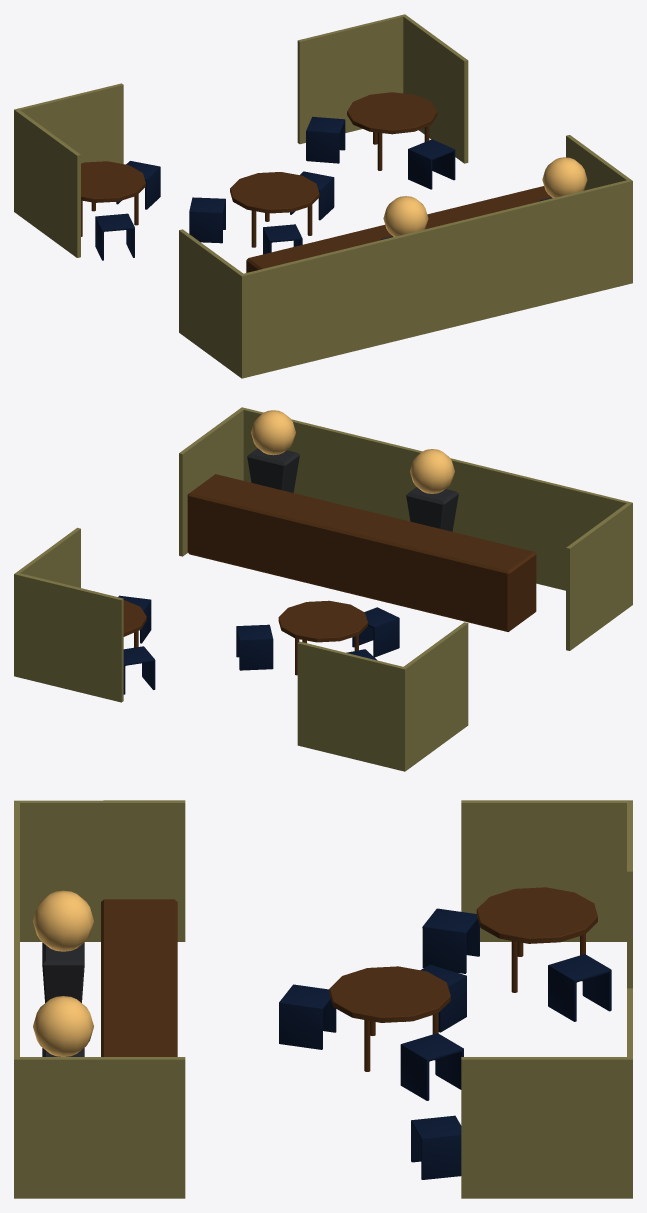
File: Cafeteria.FBX
3 renders of one model, top to bottom at view 1: azimuth 30°, elevation 25°; view 2: azimuth 150°, elevation 25°; view 3: azimuth 270°, elevation 25°, orthographic. The views are drawn at different scales.
Parts seen in each view (by area): view 1: Cafeteria Walls, Cafeteria Walls001, Counter, Table003, Table002, Table001, Stool004, Stool003, Stool007, Human001, Human002, Stool002 (+3 smaller); view 2: Cafeteria Walls001, Cafeteria Walls, Counter, Human001, Human002, Table003, Stool006, Stool005, Stool003, Table002; view 3: Cafeteria Walls, Cafeteria Walls001, Counter, Table003, Table001, Human002, Stool002, Stool005, Stool001, Human001, Stool006, Stool004 (+1 smaller).
Boxes of the visible parts, box(x1,y1,x2,y2) form: Cafeteria Walls: box(179, 135, 632, 378); Cafeteria Walls001: box(14, 14, 468, 257); Counter: box(246, 186, 551, 272); Table003: box(230, 172, 319, 247); Table002: box(347, 92, 437, 170); Table001: box(81, 161, 145, 236); Stool004: box(408, 139, 455, 189); Stool003: box(306, 116, 345, 163); Stool007: box(189, 197, 225, 243); Human001: box(539, 157, 587, 201); Human002: box(380, 196, 428, 240); Stool002: box(95, 213, 134, 260); Cafeteria Walls001: box(14, 527, 468, 771); Cafeteria Walls: box(179, 407, 632, 650); Counter: box(187, 474, 536, 631); Human001: box(247, 410, 299, 492); Human002: box(406, 449, 458, 531); Table003: box(278, 600, 367, 675); Stool006: box(236, 624, 273, 670); Stool005: box(352, 607, 399, 657); Stool003: box(123, 646, 155, 694); Table002: box(123, 600, 146, 647); Cafeteria Walls: box(14, 800, 185, 1198); Cafeteria Walls001: box(461, 800, 632, 1198); Counter: box(101, 899, 177, 1056); Table003: box(329, 966, 450, 1071); Table001: box(476, 887, 597, 992); Human002: box(33, 890, 93, 1002); Stool002: box(422, 908, 479, 973); Stool005: box(279, 984, 336, 1049); Stool001: box(548, 954, 611, 1021); Human001: box(33, 996, 93, 1056); Stool006: box(400, 1033, 463, 1100); Stool004: box(411, 1115, 461, 1179).
Bounding box in the file's own units: 5.08 × 1.52 × 5.13.
